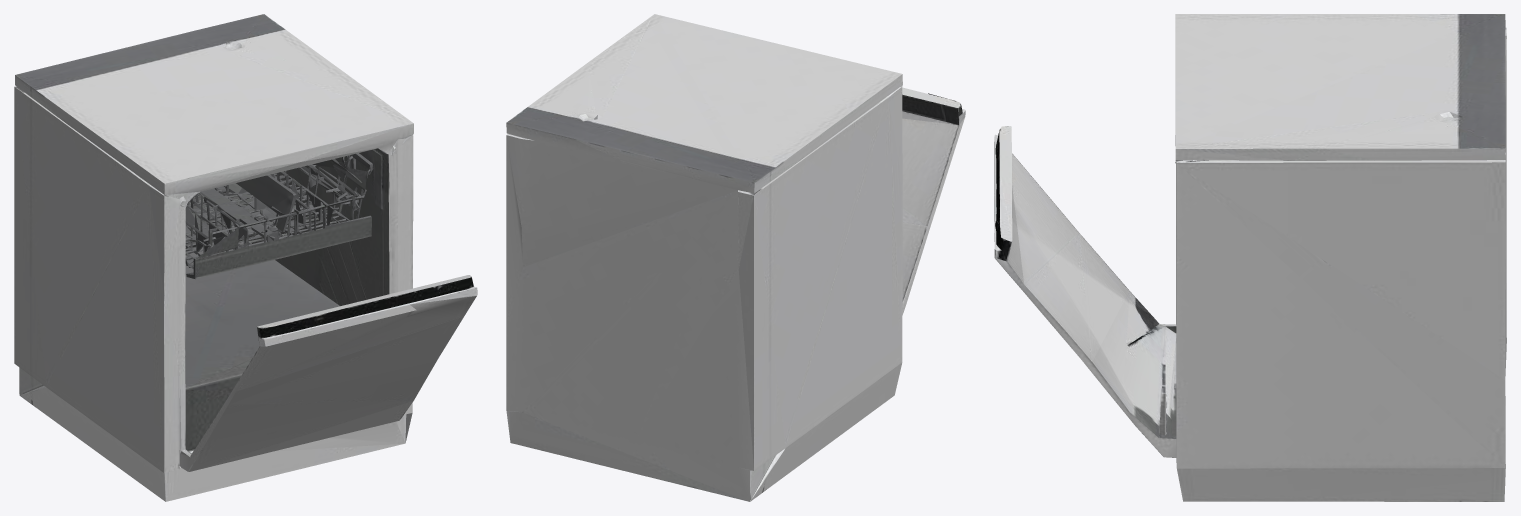
The model's file is beko-dishwasher-standard-din36423.glb.
3 views of the same model, side by side, from view 1: azimuth 30°, elevation 25°; view 2: azimuth 150°, elevation 25°; view 3: azimuth 270°, elevation 25° (orthographic). The views are drawn at different scales.
Size of the model in its own units: 1.18 by 1.46 by 1.9.
Materials: 1 (1 with a texture image).
